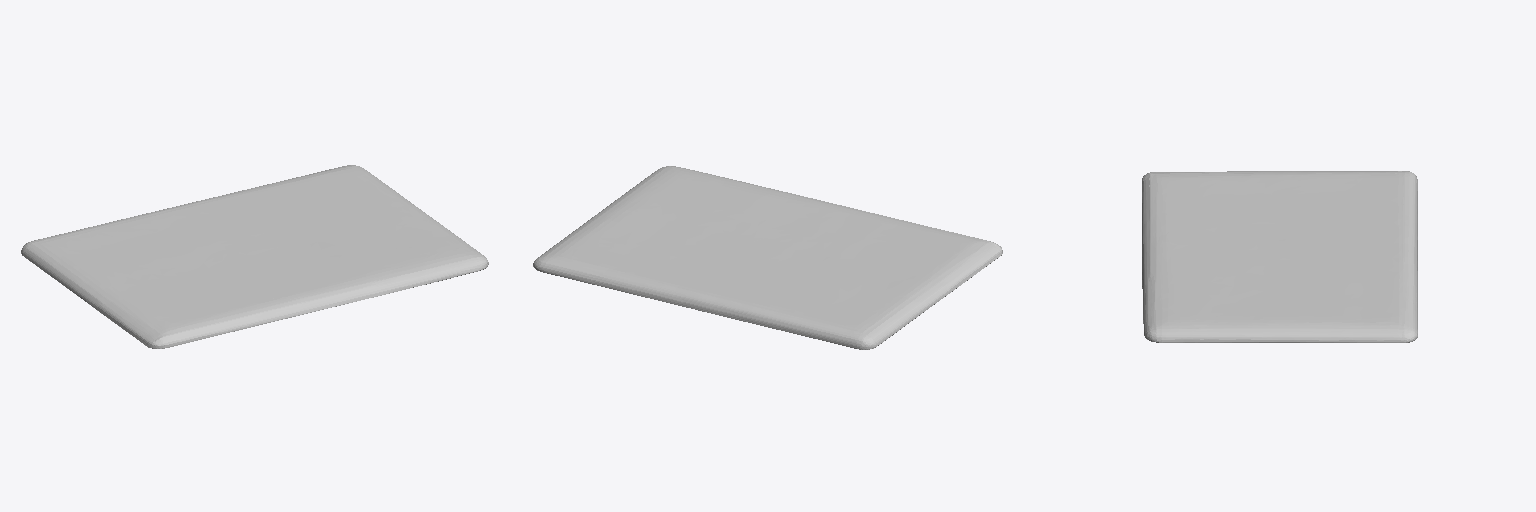
The model's file is laptop_visual.obj.
3 views of the same model, side by side, from view 1: azimuth 30°, elevation 25°; view 2: azimuth 150°, elevation 25°; view 3: azimuth 270°, elevation 25° (orthographic).
Size of the model in its own units: 0.0999 by 0.0041 by 0.0697.